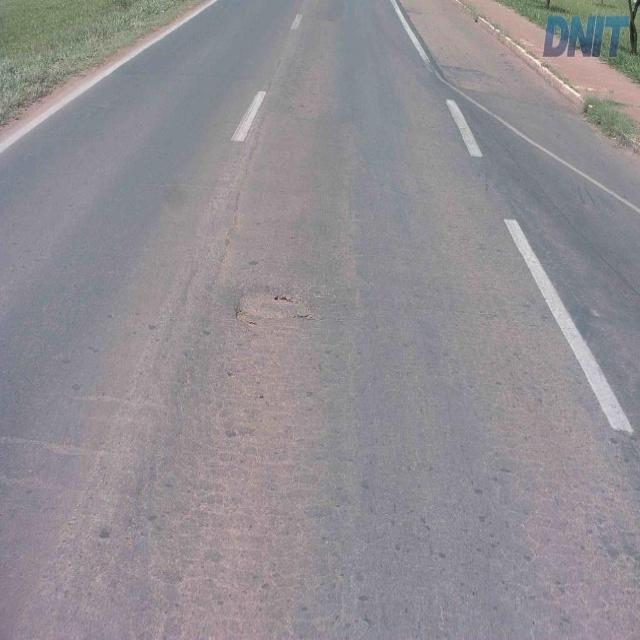pothole: (230, 282, 314, 328)
